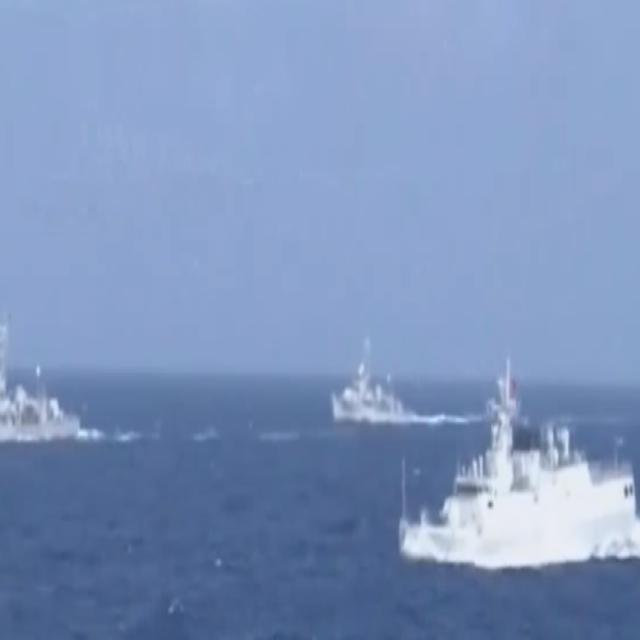navalvessels: (391, 366, 640, 588), (0, 296, 86, 449), (329, 332, 422, 422)
